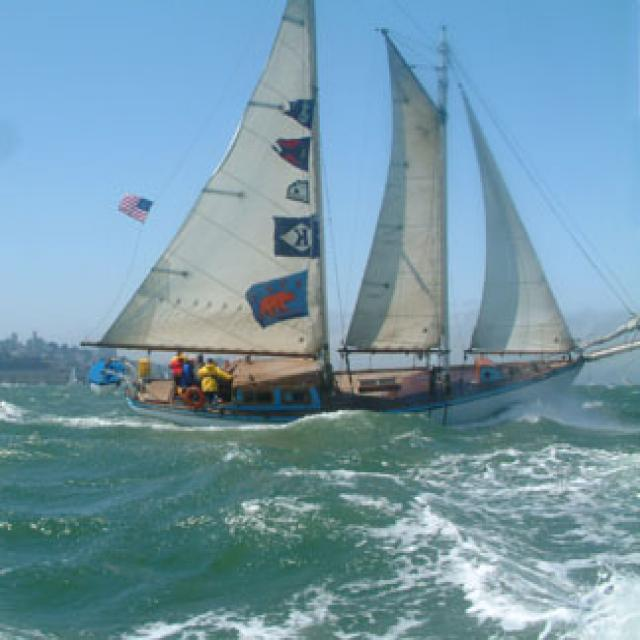Ship: (71, 1, 640, 419)
